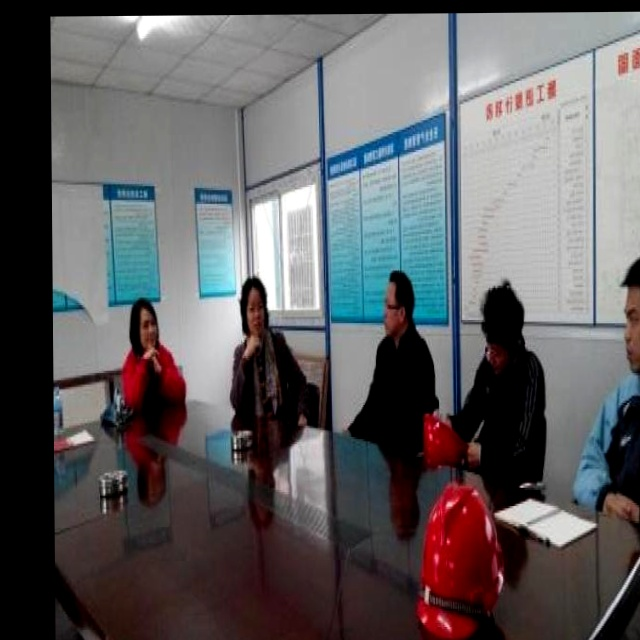Sin_Casco_Mascarrilla: (380, 270, 414, 339), (240, 277, 271, 337)
